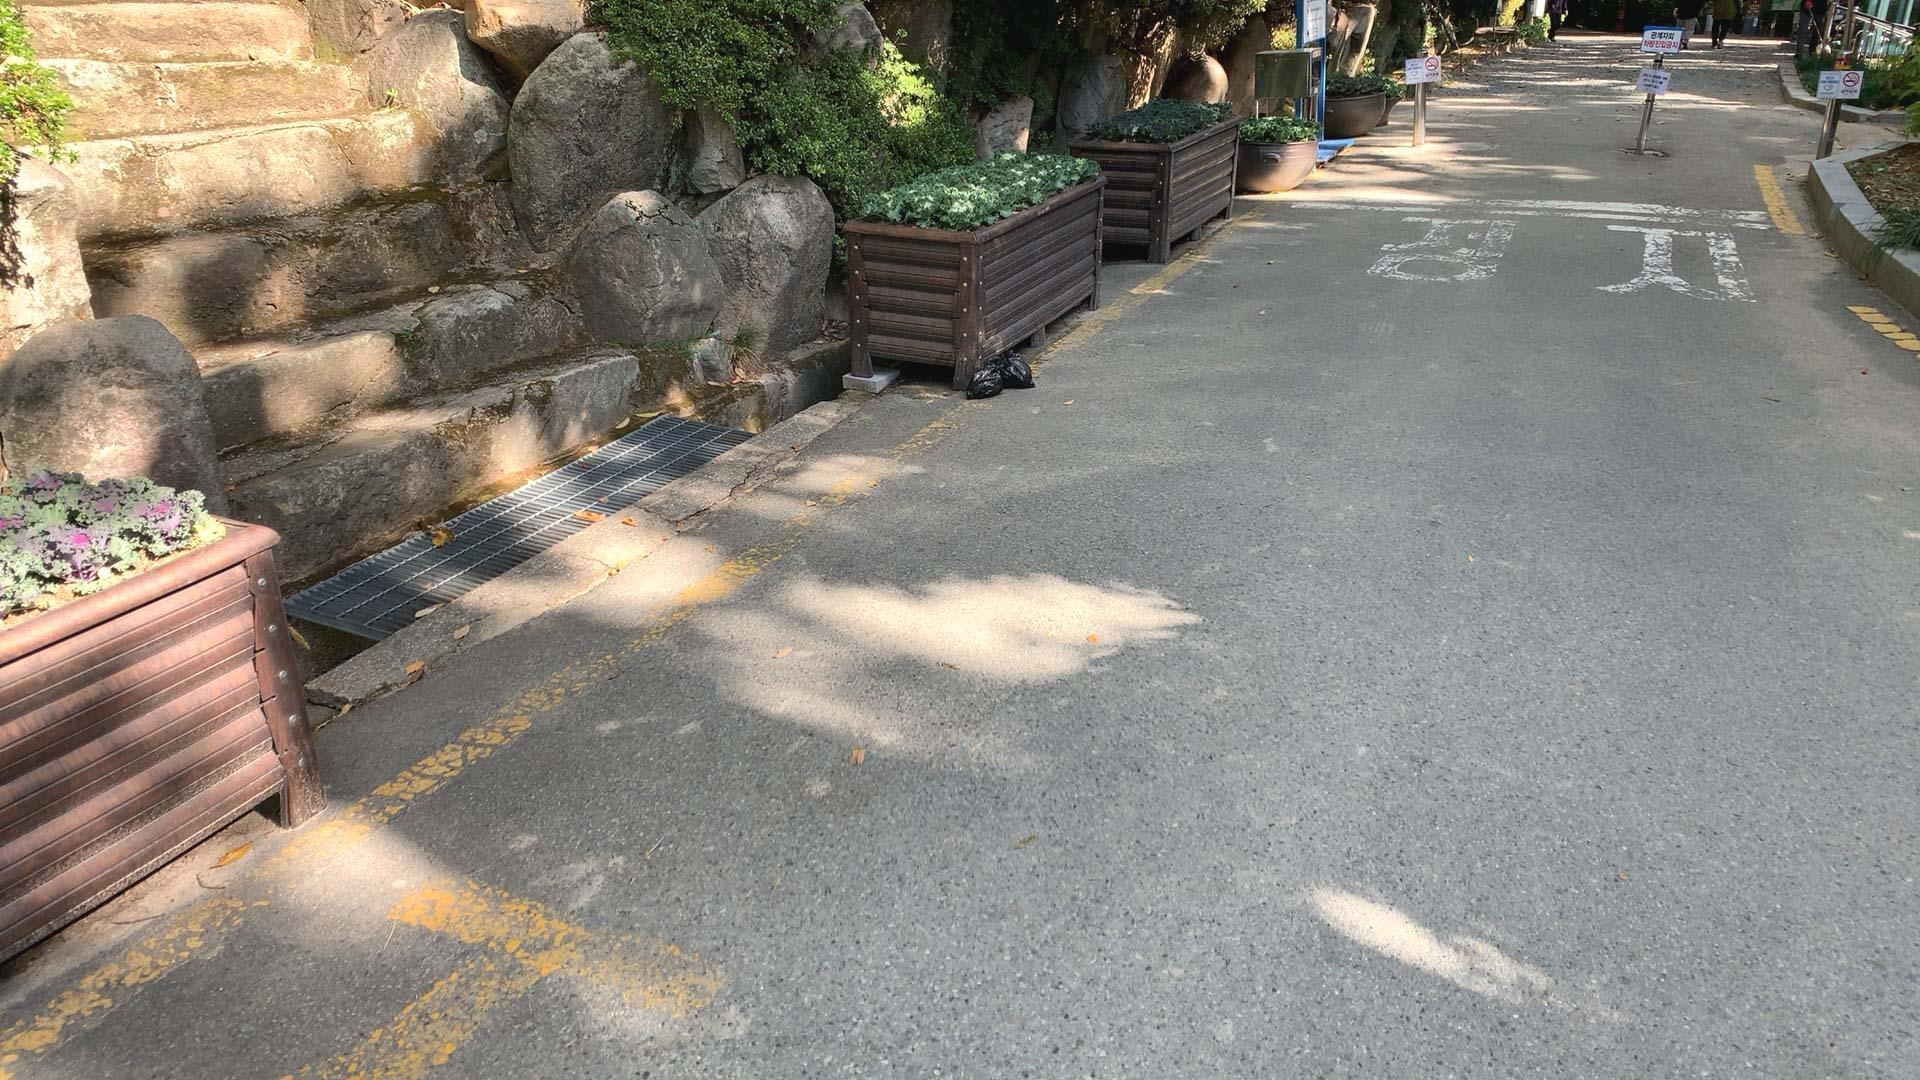black_bag: (992, 349, 1038, 389), (962, 359, 1006, 399)
